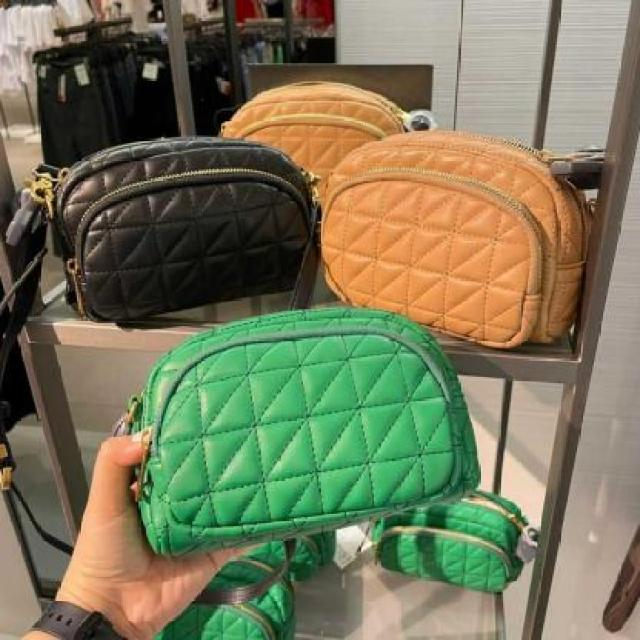Bag: (85, 288, 533, 634), (306, 67, 592, 355), (27, 116, 330, 327)
